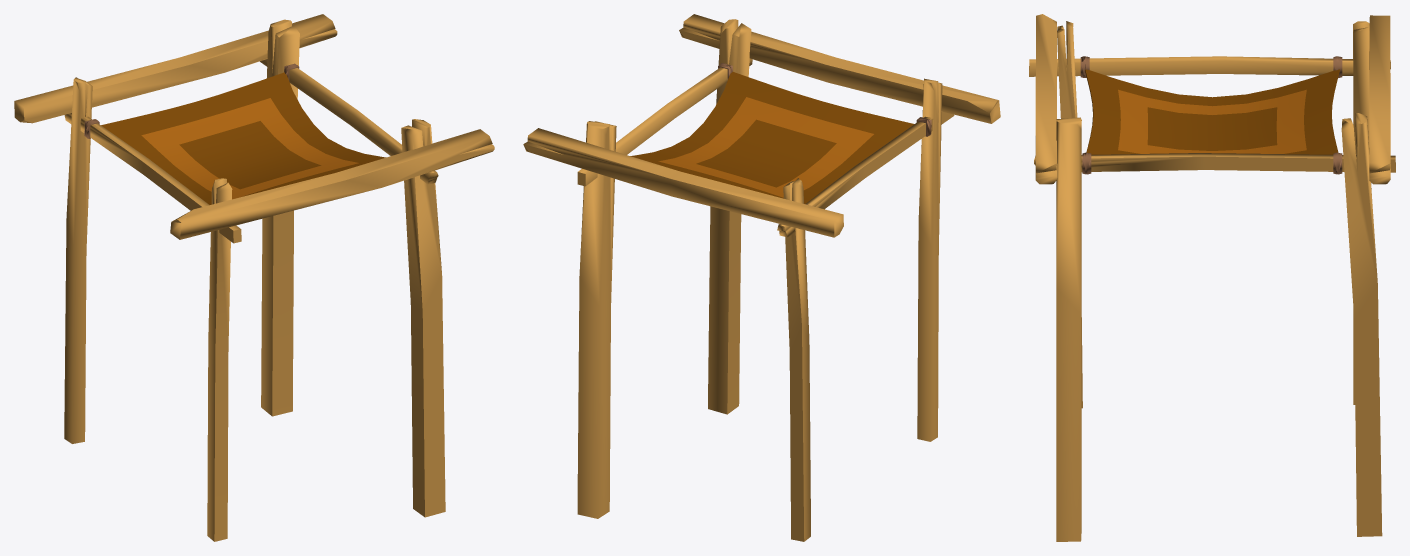
File: Module_Awning_Small_LOD02.fbx
3 renders of one model, left to right at view 1: azimuth 30°, elevation 25°; view 2: azimuth 150°, elevation 25°; view 3: azimuth 270°, elevation 25°, orthographic. The views are drawn at different scales.
Visible parts, largest first — view 1: Module_Awning_Small_LOD02_Geometry; view 2: Module_Awning_Small_LOD02_Geometry; view 3: Module_Awning_Small_LOD02_Geometry.
Boxes of the visible parts, x1=… form: Module_Awning_Small_LOD02_Geometry: x1=14, y1=14, x2=494, y2=541; Module_Awning_Small_LOD02_Geometry: x1=523, y1=14, x2=1000, y2=541; Module_Awning_Small_LOD02_Geometry: x1=1029, y1=14, x2=1395, y2=541.
Size of the model in its own units: 4.14 by 4.9 by 3.93.
